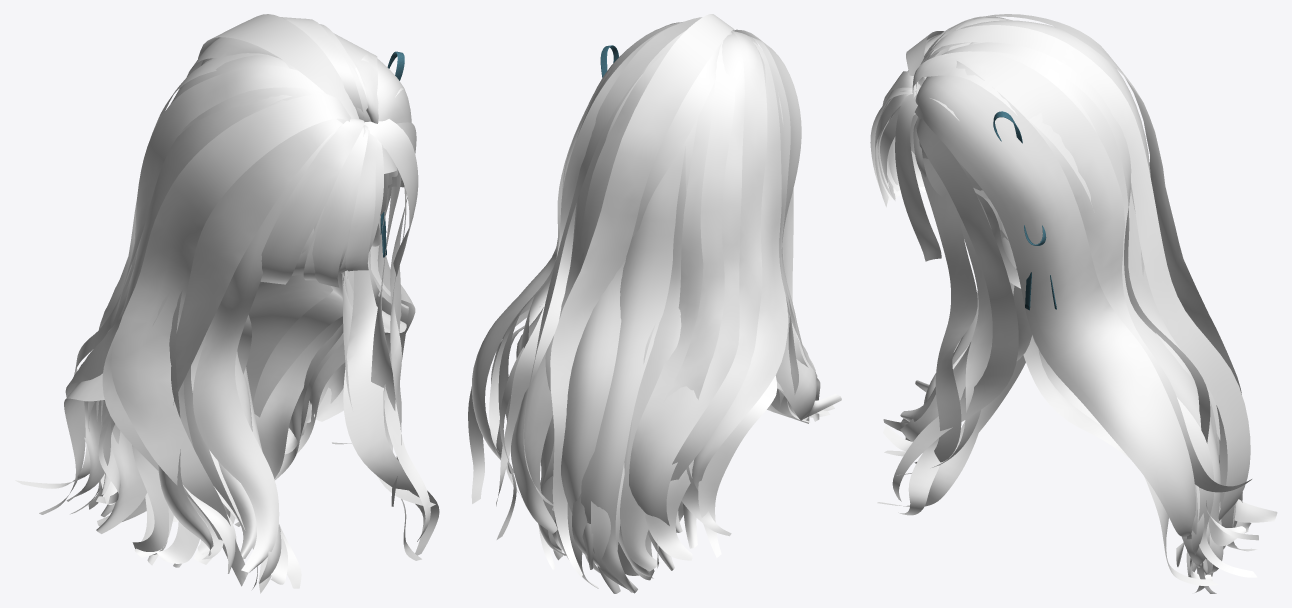
The model's file is bdor_hair_asuna.glb.
3 views of the same model, side by side, from view 1: azimuth 30°, elevation 25°; view 2: azimuth 150°, elevation 25°; view 3: azimuth 270°, elevation 25° (orthographic). The views are drawn at different scales.
Parts seen in each view (by area): view 1: ANS_L, ANS_B_light, ANS_L_inv, ANS_B, ASN_R_light, ASN_R_light_inv; view 2: ANS_B_light, ANS_L, ANS_B, ANS_L_inv; view 3: ANS_B_light, ASN_R_light, ANS_L, ASN_R_light_inv, ANS_B, ANS_L_inv, EX_Asuna_ribbon.
Part boxes in pixels (bbox=[...]): ANS_L: bbox=[102, 94, 439, 593]; ANS_B_light: bbox=[15, 14, 415, 526]; ANS_L_inv: bbox=[103, 94, 438, 592]; ANS_B: bbox=[96, 172, 406, 567]; ASN_R_light: bbox=[371, 122, 435, 541]; ASN_R_light_inv: bbox=[371, 123, 435, 535]; ANS_B_light: bbox=[468, 14, 788, 592]; ANS_L: bbox=[734, 29, 841, 423]; ANS_B: bbox=[505, 64, 683, 593]; ANS_L_inv: bbox=[738, 30, 841, 421]; ANS_B_light: bbox=[908, 14, 1277, 593]; ASN_R_light: bbox=[892, 117, 1020, 501]; ANS_L: bbox=[870, 31, 1032, 515]; ASN_R_light_inv: bbox=[893, 118, 1019, 499]; ANS_B: bbox=[956, 159, 1242, 592]; ANS_L_inv: bbox=[870, 31, 1030, 515]; EX_Asuna_ribbon: bbox=[993, 111, 1056, 310].
Size of the model in its own units: 0.3177 by 0.5323 by 0.3443.
Materials: 12 (1 with a texture image).
